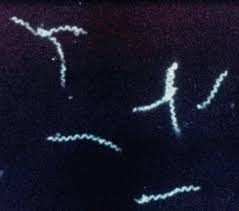sphyillis: (9, 15, 89, 86), (130, 62, 184, 136), (132, 184, 203, 204), (45, 132, 119, 151), (195, 69, 231, 108)
